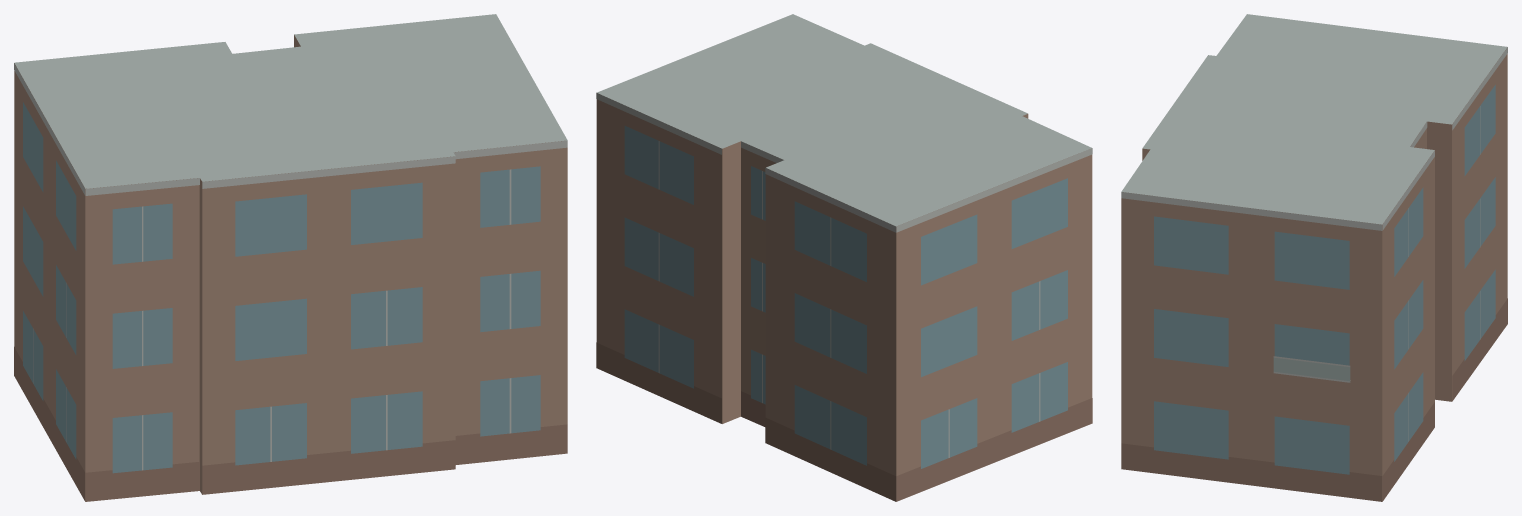
The model's file is survey-upis-32875019.glb.
3 views of the same model, side by side, from view 1: azimuth 30°, elevation 25°; view 2: azimuth 150°, elevation 25°; view 3: azimuth 270°, elevation 25° (orthographic). The views are drawn at different scales.
Visible parts, largest first — view 1: survey-upis-32875019.tmp; view 2: survey-upis-32875019.tmp; view 3: survey-upis-32875019.tmp.
Part boxes in pixels (bbox=[...]): survey-upis-32875019.tmp: bbox=[14, 14, 567, 501]; survey-upis-32875019.tmp: bbox=[596, 14, 1092, 501]; survey-upis-32875019.tmp: bbox=[1121, 14, 1507, 501].
Size of the model in its own units: 17.28 by 10.6 by 13.4.
